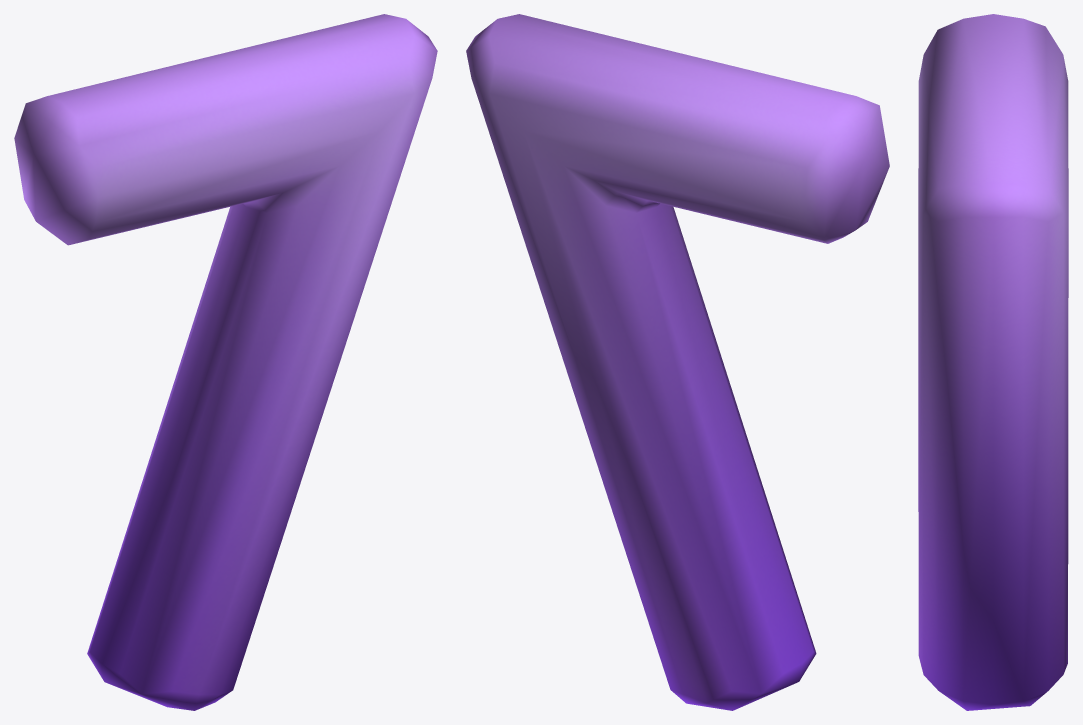
The picture shows the model from 3 angles, left to right: view 1: azimuth 30°, elevation 25°; view 2: azimuth 150°, elevation 25°; view 3: azimuth 270°, elevation 25°; orthographic projection.
Visible parts, largest first — view 1: Processed_Mesh0_Geometry; view 2: Processed_Mesh0_Geometry; view 3: Processed_Mesh0_Geometry.
Part boxes in pixels (left/top/right/bottom): Processed_Mesh0_Geometry: left=14, top=14, right=437, bottom=710; Processed_Mesh0_Geometry: left=466, top=14, right=889, bottom=710; Processed_Mesh0_Geometry: left=918, top=14, right=1068, bottom=710.
Size of what is drawn, in the model's own units: 0.0532 by 0.0807 by 0.0175.
Materials: 1 (1 with a texture image).
